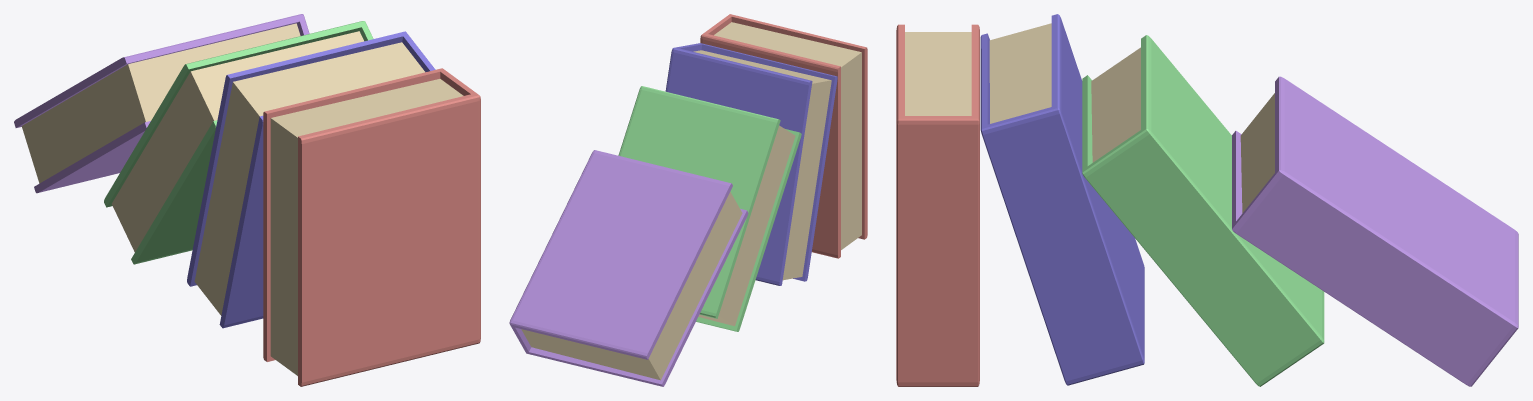
File: Books.fbx
The picture shows the model from 3 angles, left to right: view 1: azimuth 30°, elevation 25°; view 2: azimuth 150°, elevation 25°; view 3: azimuth 270°, elevation 25°; orthographic projection. The views are drawn at different scales.
Parts seen in each view (by area): view 1: Cube.009; view 2: Cube.009; view 3: Cube.009.
Part boxes in pixels (<box>): Cube.009: <box>14,14,480,386</box>; Cube.009: <box>509,14,867,386</box>; Cube.009: <box>896,14,1518,386</box>.
Bounding box in the file's own units: 107 × 147 × 297.
